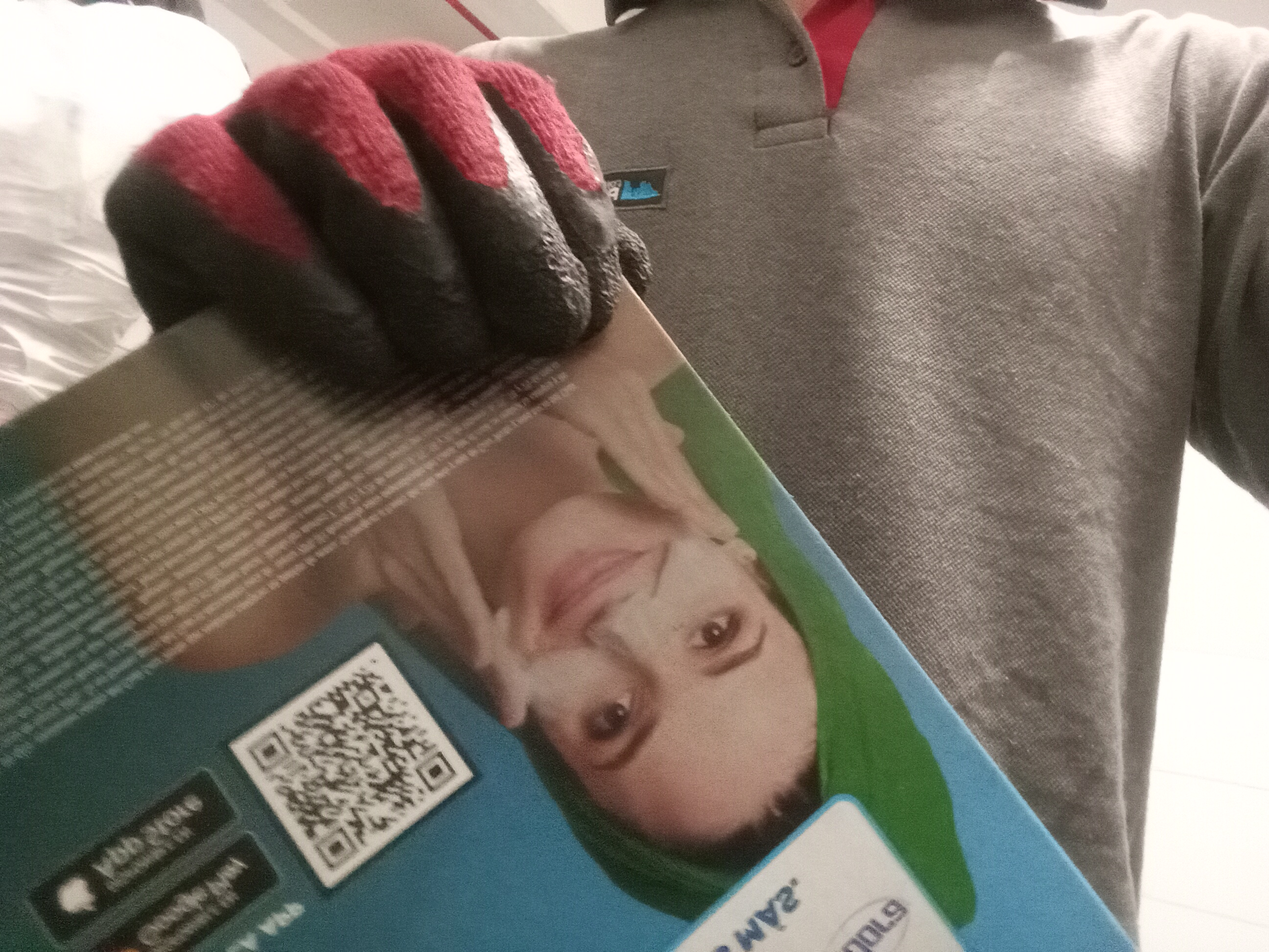Carton: (0, 195, 1150, 952)
